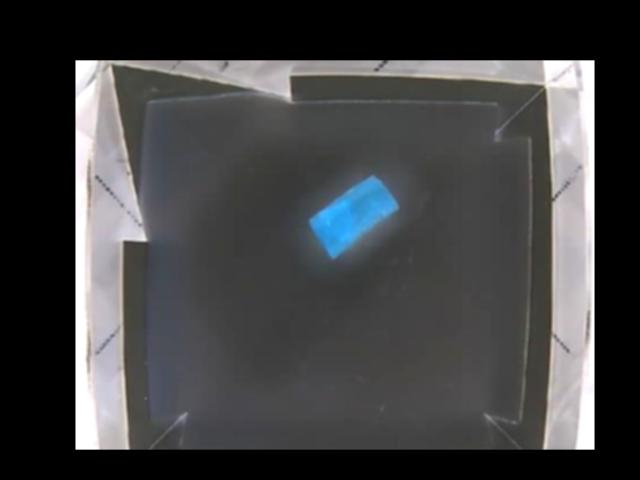Carrot: (309, 172, 400, 258)
